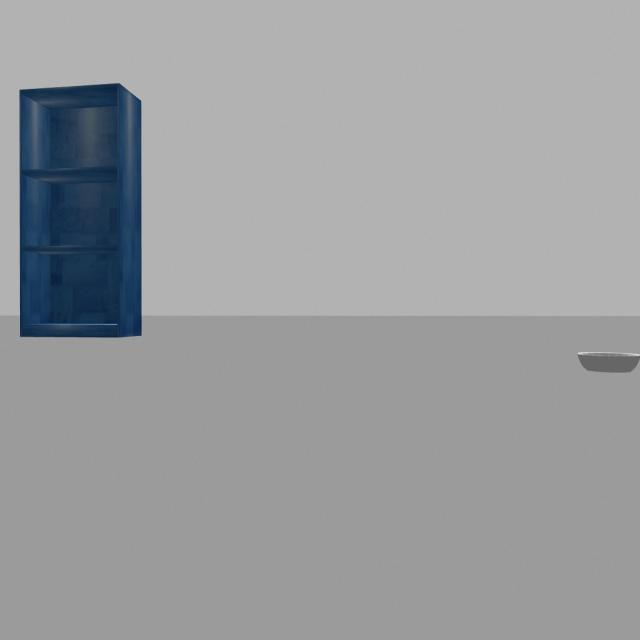bowl: (564, 338, 640, 382)
shelf: (11, 71, 150, 350)
